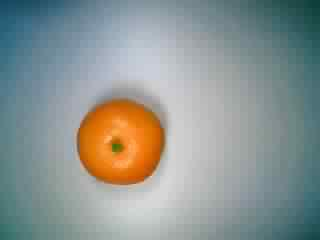orange: (72, 96, 167, 190)
